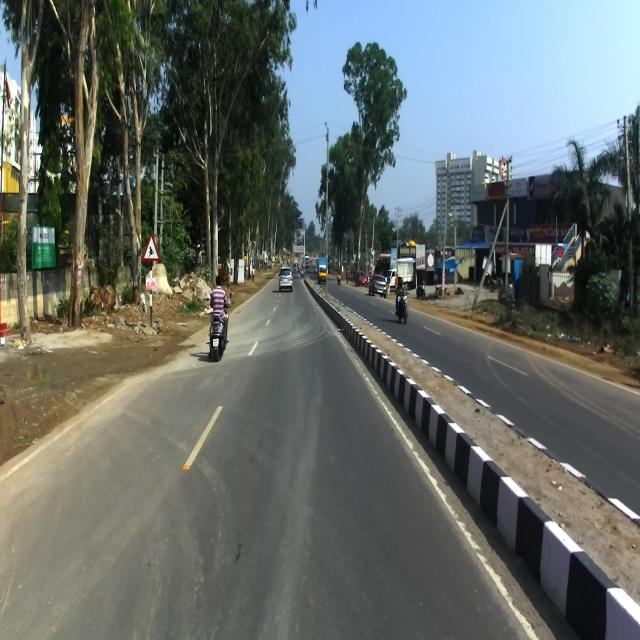scooter: (205, 291, 232, 361)
